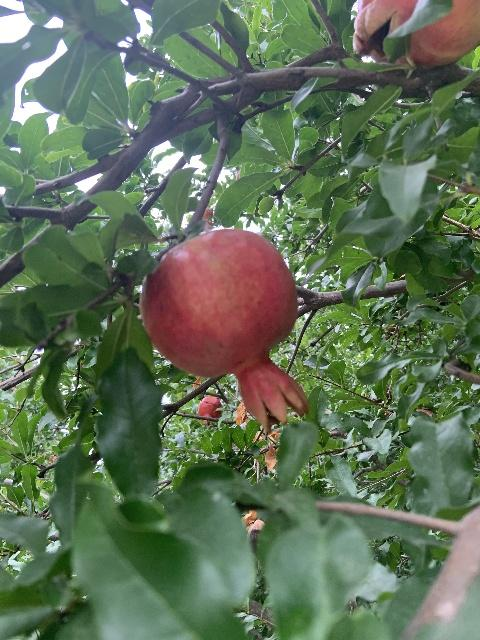ripe: (138, 228, 308, 430), (351, 0, 480, 68), (197, 395, 223, 425)
